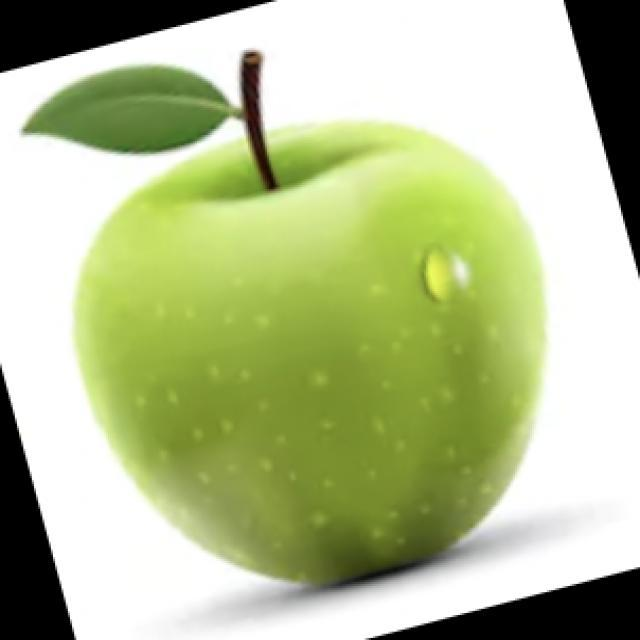Fresh Apple: (78, 125, 530, 562)
